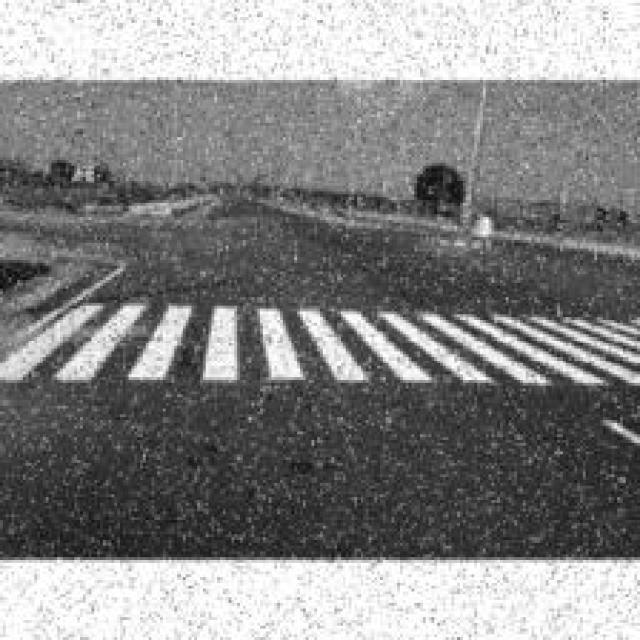crosswalk: (0, 291, 640, 418)
